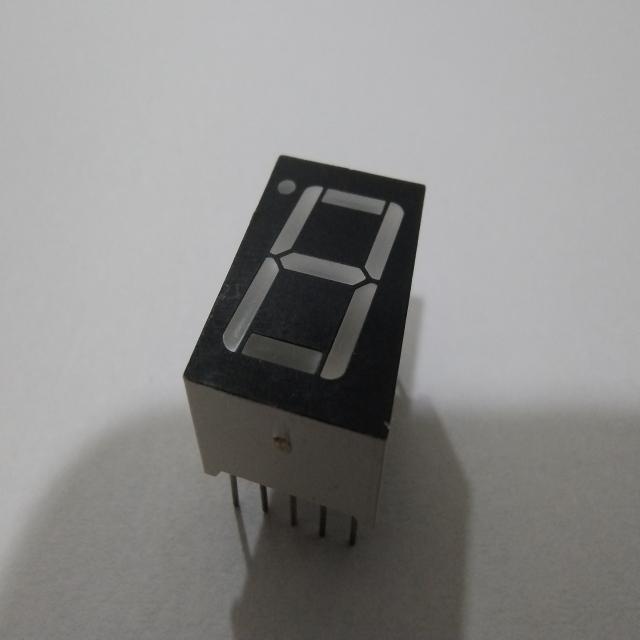7_segments: (168, 147, 432, 554)
